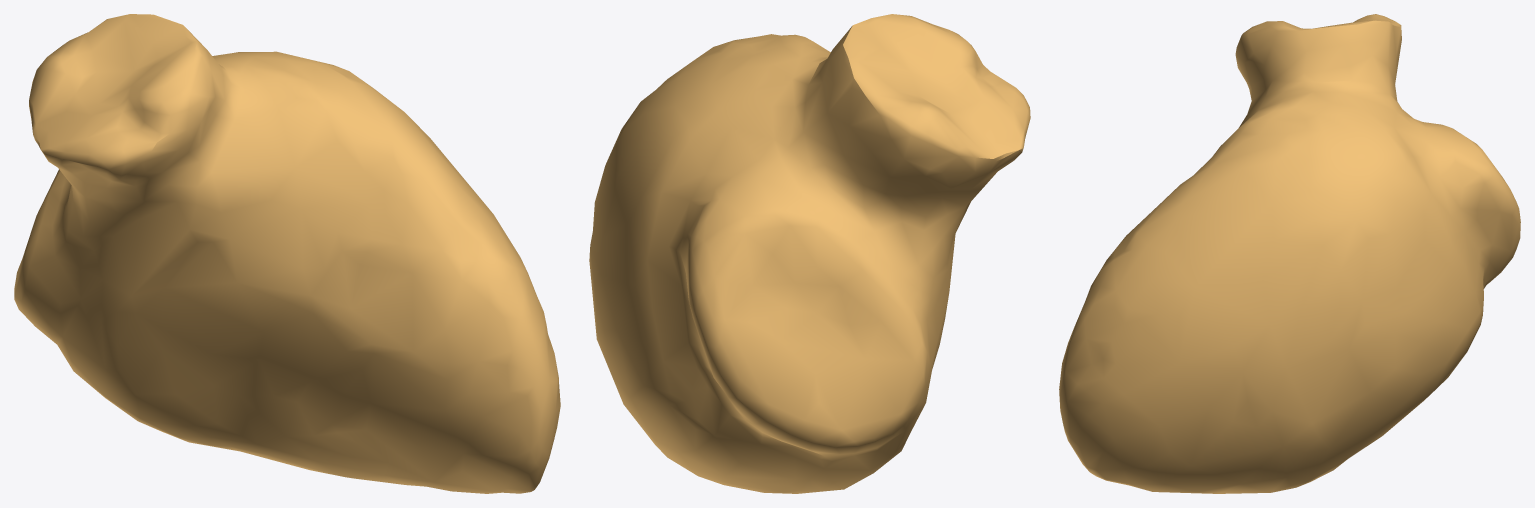
The model's file is ventriculo-esquerdo.glb.
The picture shows the model from 3 angles, left to right: view 1: azimuth 30°, elevation 25°; view 2: azimuth 150°, elevation 25°; view 3: azimuth 270°, elevation 25°; orthographic projection. The views are drawn at different scales.
Visible parts, largest first — view 1: ventriculo-esquerdo; view 2: ventriculo-esquerdo; view 3: ventriculo-esquerdo.
Boxes of the visible parts, left/top/right/bottom form: ventriculo-esquerdo: left=14, top=14, right=560, bottom=493; ventriculo-esquerdo: left=589, top=14, right=1030, bottom=493; ventriculo-esquerdo: left=1059, top=14, right=1520, bottom=493.
Size of the model in its own units: 0.0638 by 0.0675 by 0.0721.
